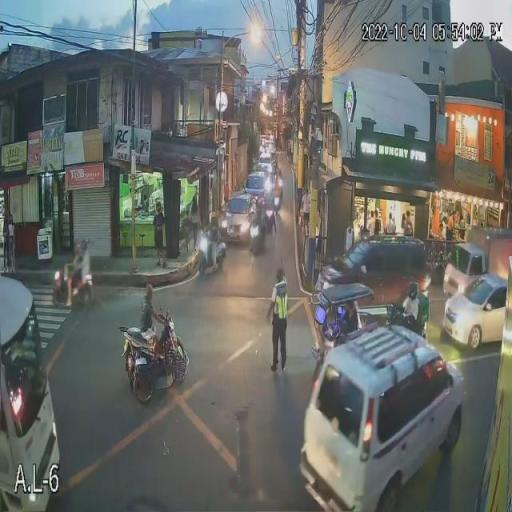helmet: (142, 282, 156, 301), (408, 282, 419, 298)
motorcycle: (113, 324, 192, 384), (386, 302, 428, 340)
rider: (136, 303, 166, 375), (404, 297, 421, 330)
